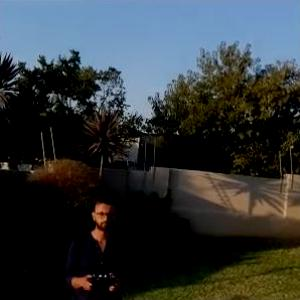follow: (58, 190, 133, 299)
